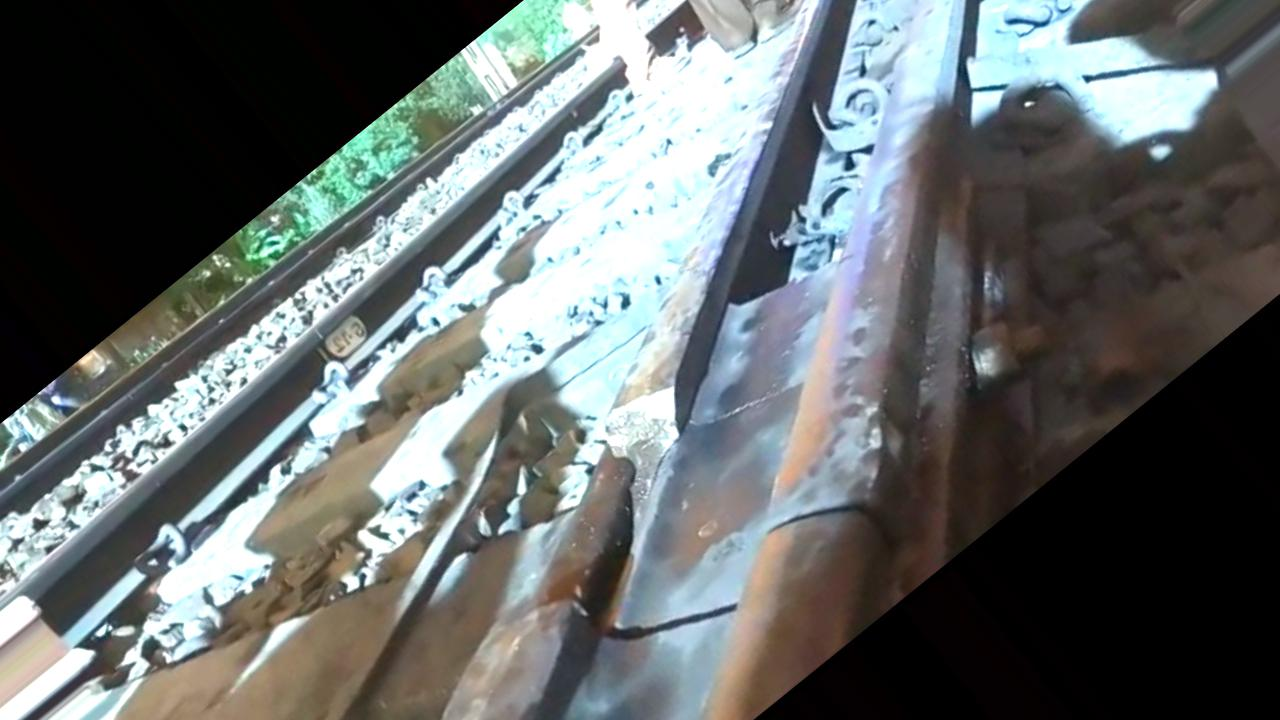tracks_fault: (561, 369, 730, 639)
